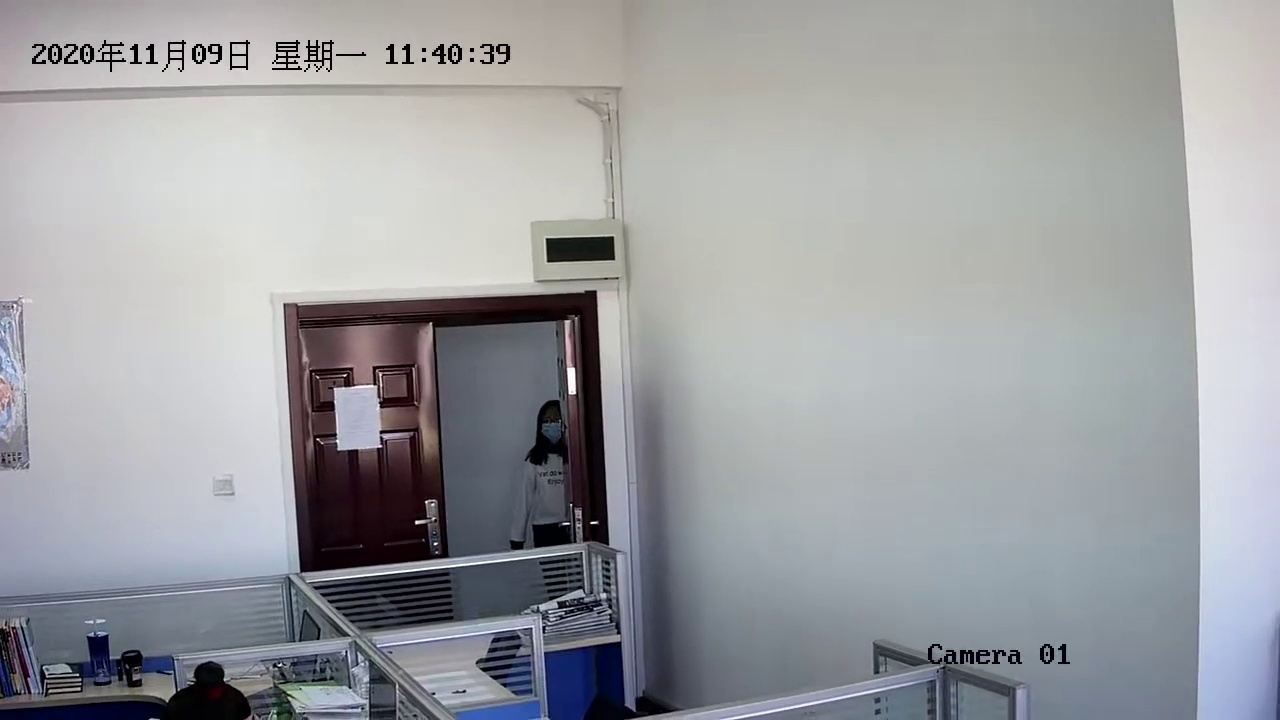mask: (530, 390, 574, 448)
